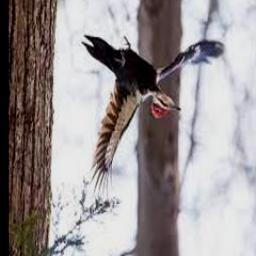Woodpecker: (82, 36, 225, 197)
